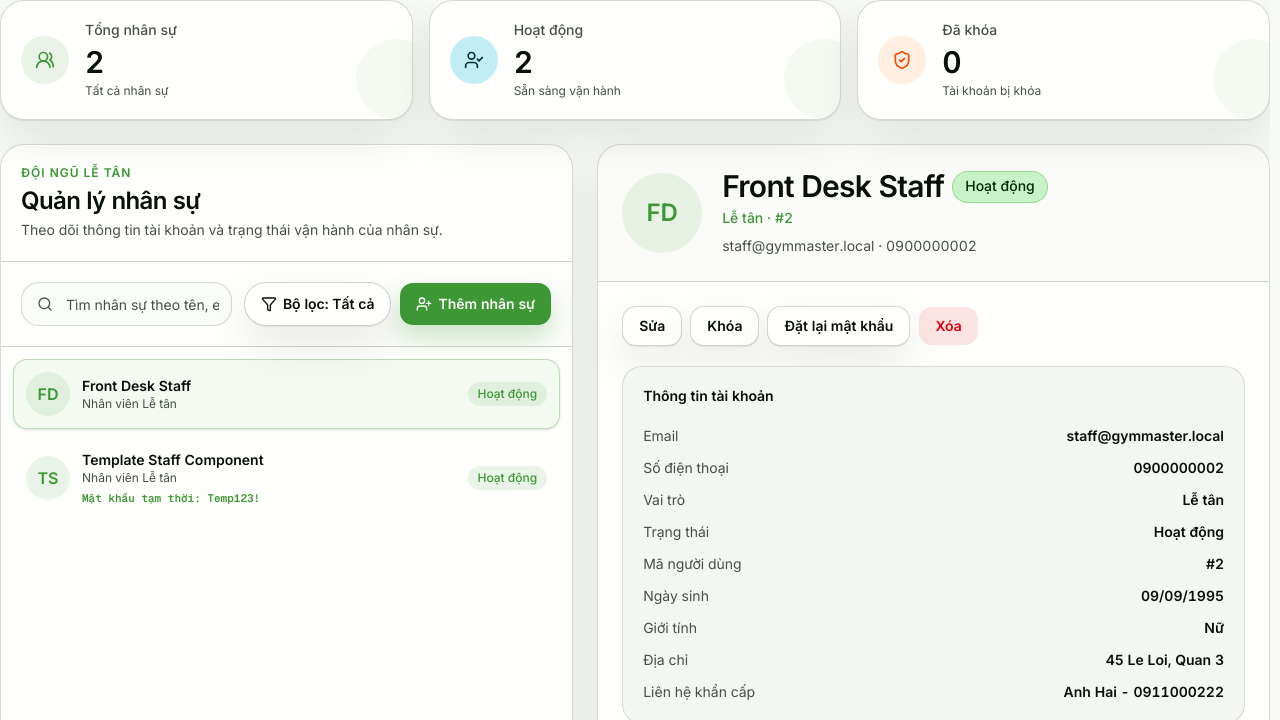
it: ManagementWorkspace › lets admin edit, lock, reset, and delete staff from the staff door
Expected: the text "Front Desk Staff" is shown, x1=82 y1=377 x2=191 y2=394
Click the button "Sửa": [652, 326] box x1=622 y1=306 x2=682 y2=346
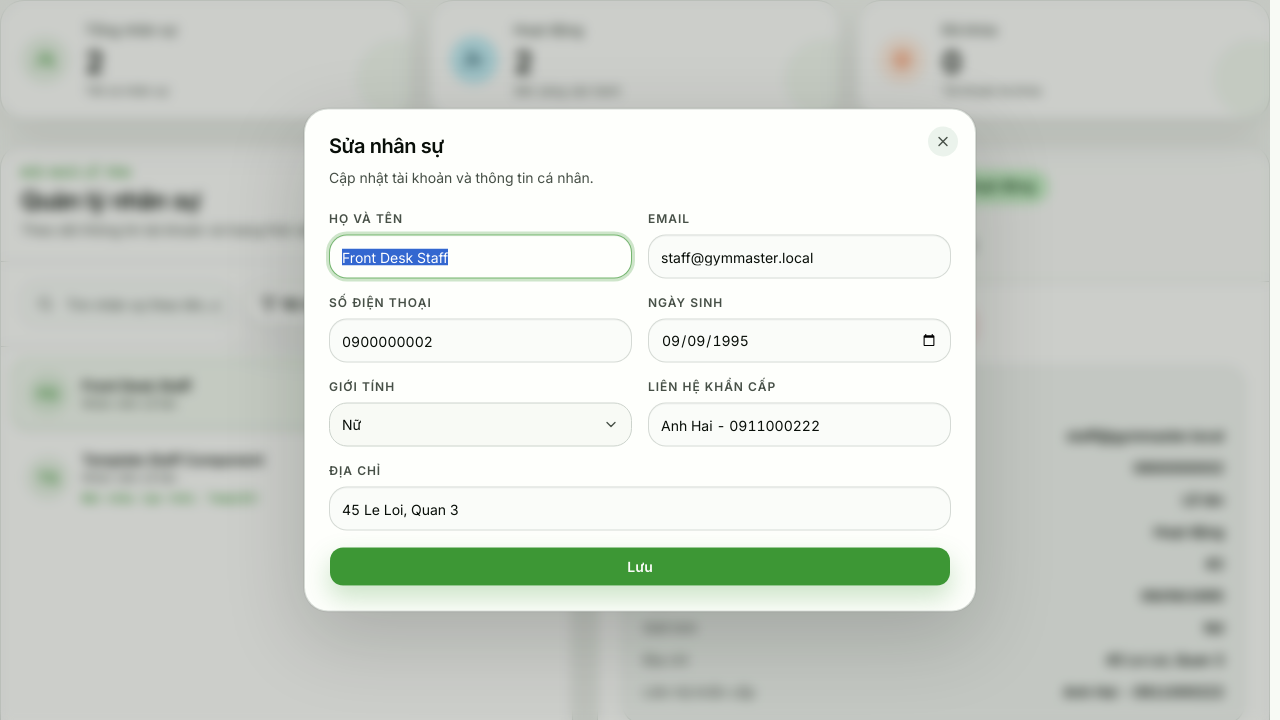
Replace the text in the field labelled "Địa chỉ" with "99 Pasteur, Quan 1": [640, 508] box x1=329 y1=486 x2=951 y2=530
Replace the text in the field labelled "Liên hệ khẩn cấp" with "Ba - 0905555666": [800, 424] box x1=648 y1=402 x2=951 y2=446
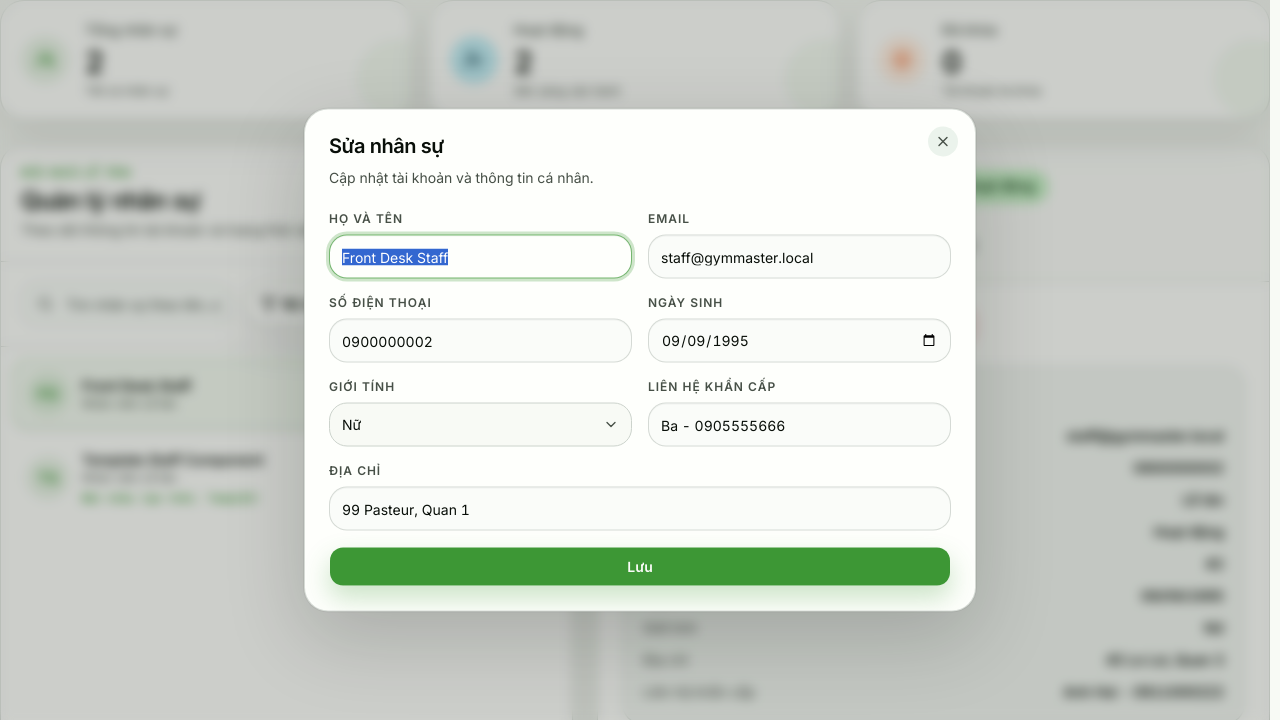
Click the button "Lưu": [640, 566] box x1=329 y1=546 x2=951 y2=586
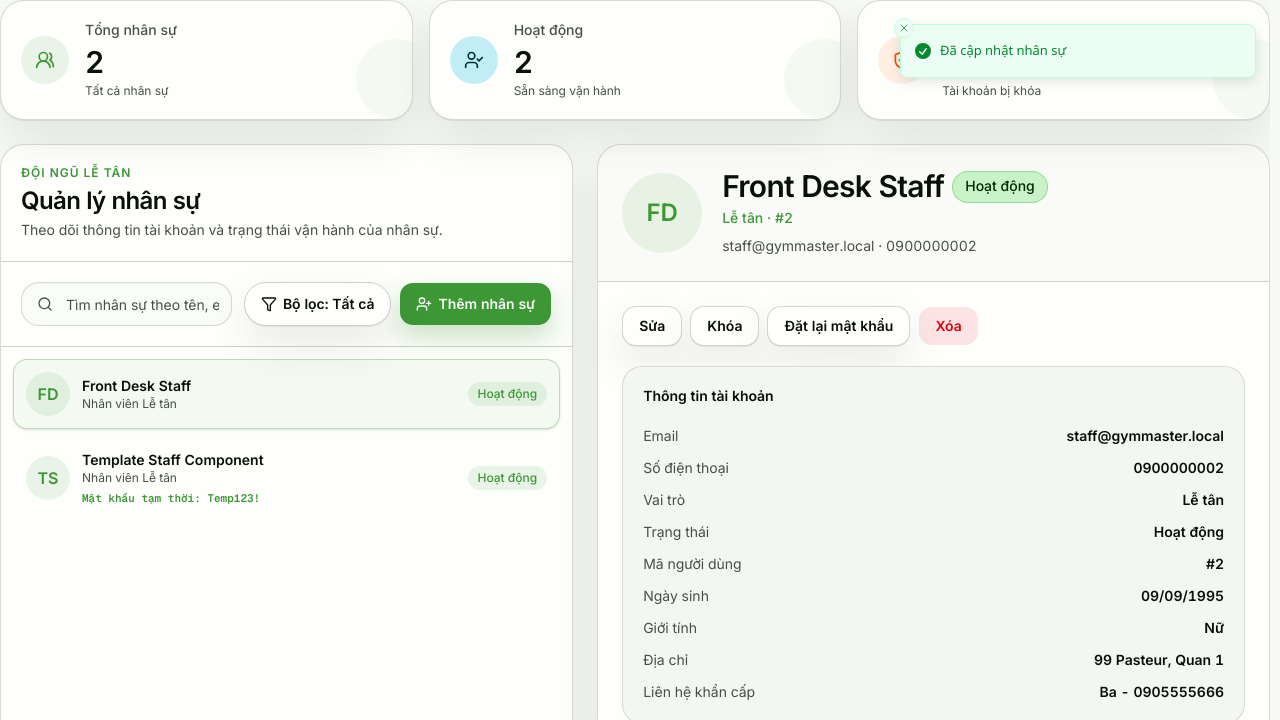
Expected: the text "99 Pasteur, Quan 1" is shown, x1=1094 y1=651 x2=1224 y2=671
Expected: the text "Ba - 0905555666" is shown, x1=1100 y1=683 x2=1224 y2=703
Click the button "Khóa": [725, 326] box x1=690 y1=306 x2=760 y2=346
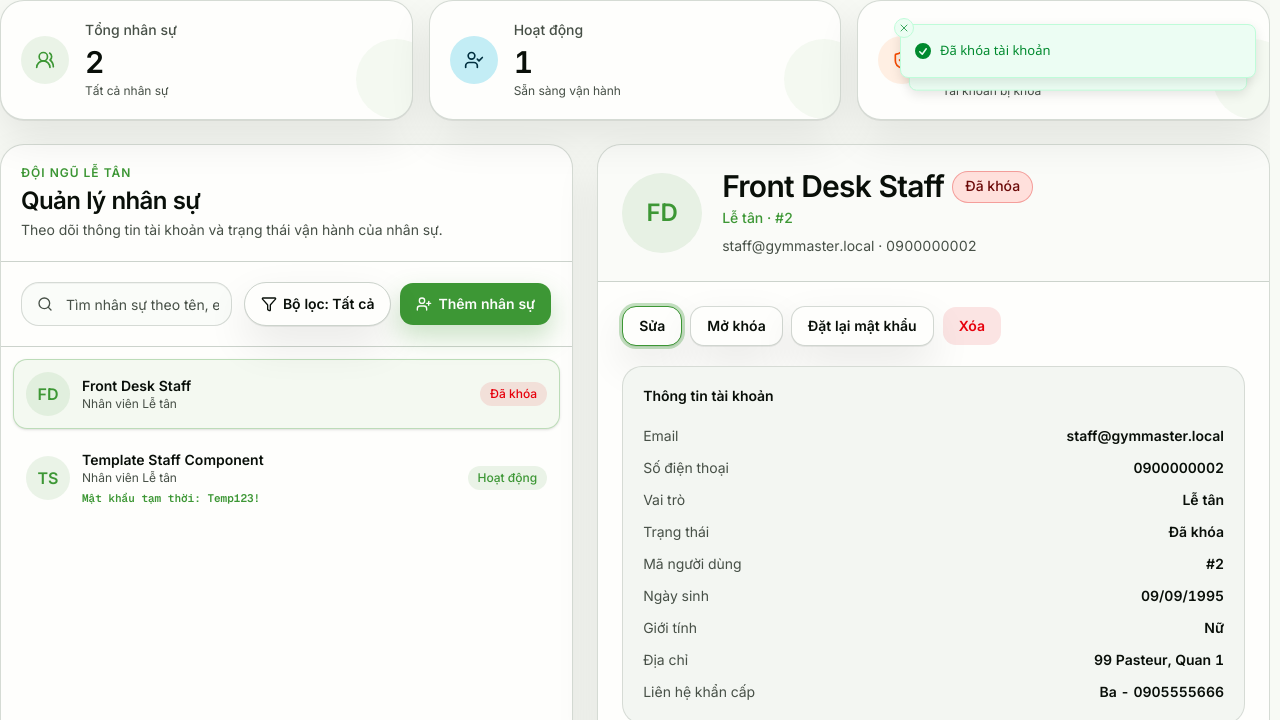
Expected: the button "Mở khóa" is shown, x1=690 y1=306 x2=783 y2=346
Click the button "Đặt lại mật khẩu": [862, 326] box x1=791 y1=306 x2=934 y2=346
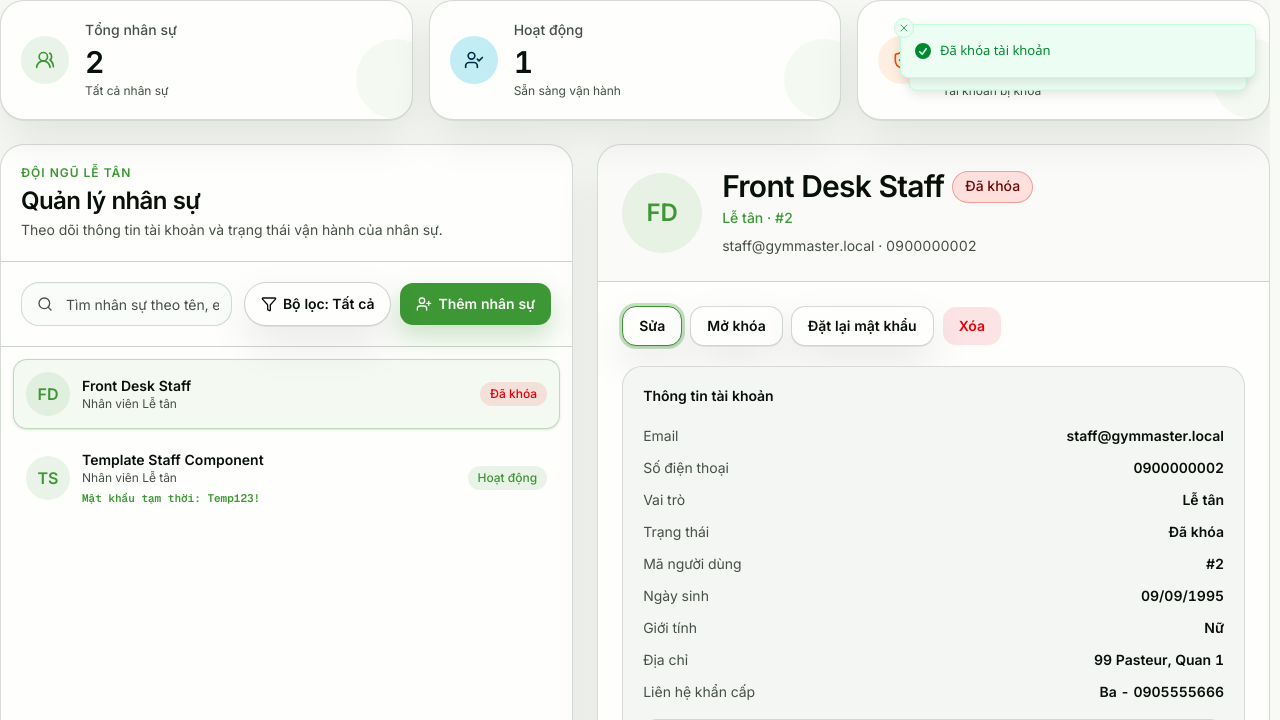
Expected: the text "Mật khẩu tạm thời: Temp123!" is shown, x1=82 y1=491 x2=260 y2=505
Click the button "Xóa": [972, 326] box x1=942 y1=306 x2=1002 y2=346
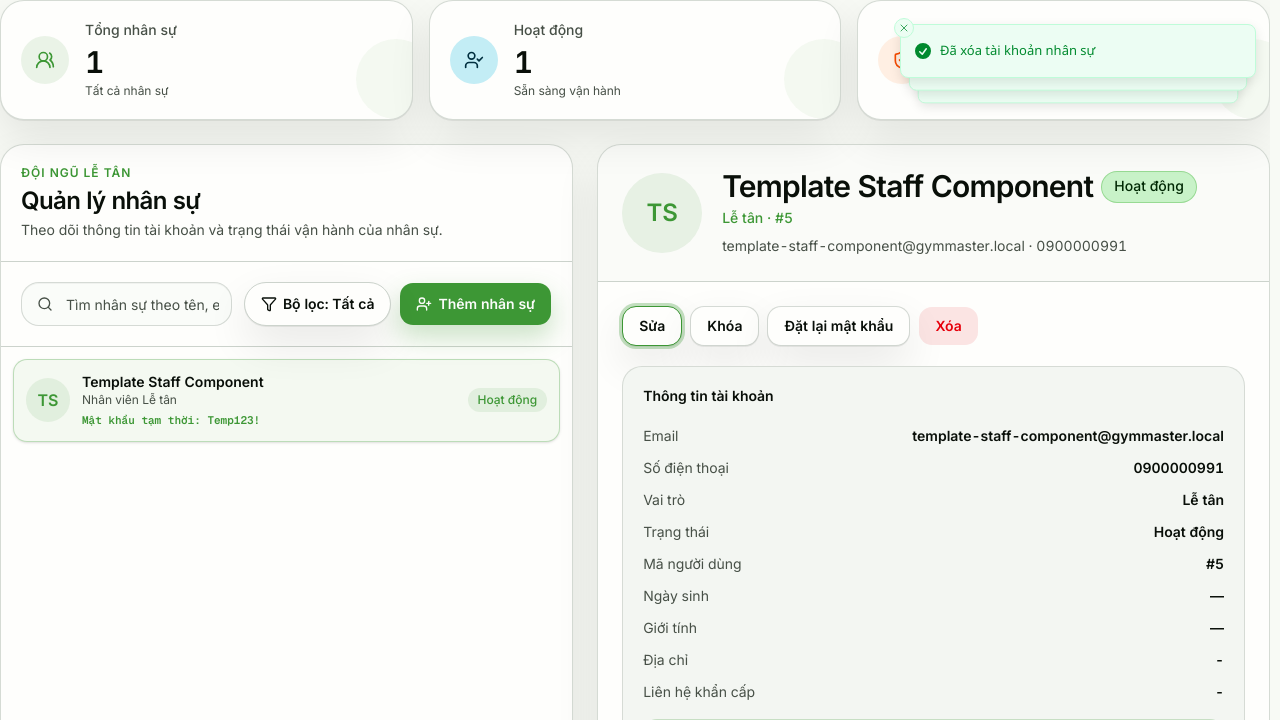
Expected: no buttons "Front Desk Staff" are shown
